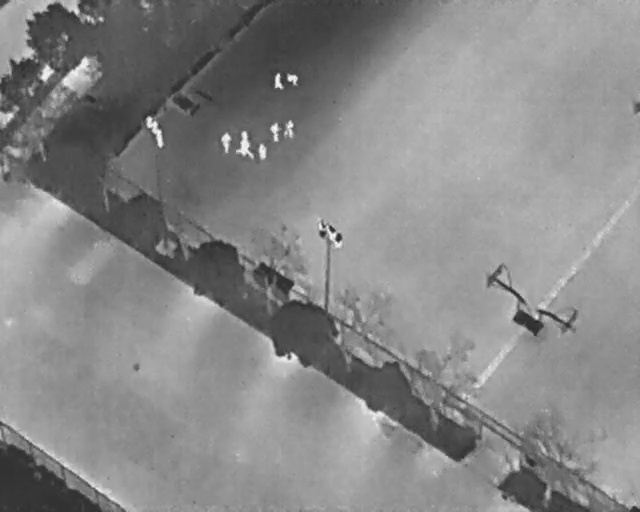Person: (233, 142, 257, 160), (269, 119, 281, 144), (285, 70, 301, 88), (220, 131, 232, 154), (283, 118, 295, 140), (273, 70, 284, 91), (257, 142, 267, 162), (239, 129, 250, 145)
